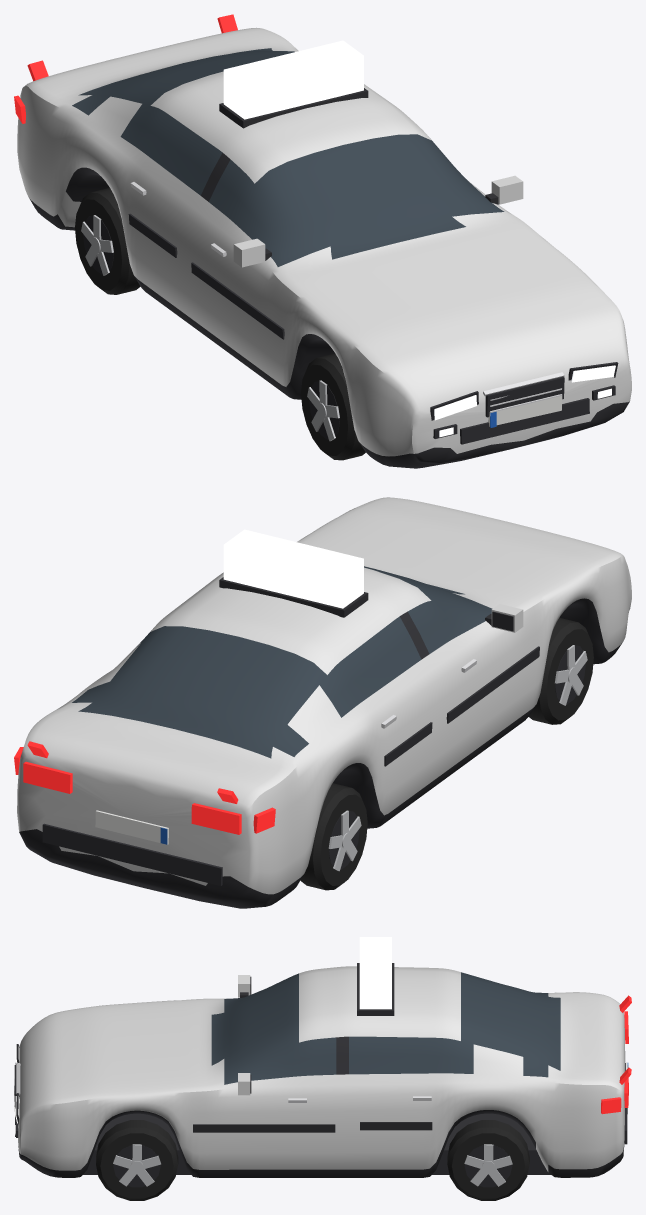
Rendered from car_taxi.glb.
3 views of the same model, one above another, from view 1: azimuth 30°, elevation 25°; view 2: azimuth 150°, elevation 25°; view 3: azimuth 270°, elevation 25° (orthographic). The views are drawn at different scales.
Visible parts, largest first — view 1: car_taxi; view 2: car_taxi; view 3: car_taxi.
Part boxes in pixels (x1,y1,x2,y2): car_taxi: [14, 14, 631, 468]; car_taxi: [14, 497, 631, 908]; car_taxi: [14, 937, 631, 1200].
Size of the model in its own units: 2.03 by 1.74 by 4.96.
